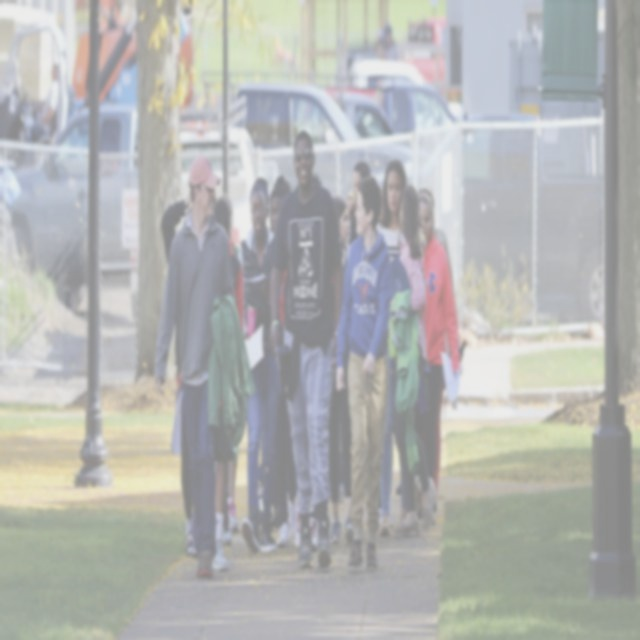pessoa: (152, 145, 258, 586), (268, 126, 345, 570), (158, 152, 240, 566), (333, 168, 396, 584), (414, 179, 464, 526), (237, 174, 282, 557), (390, 180, 438, 538), (417, 185, 463, 512), (211, 193, 245, 574), (375, 155, 408, 542), (326, 192, 356, 550), (22, 59, 70, 146), (346, 158, 374, 250), (268, 171, 292, 235), (376, 13, 398, 64)
